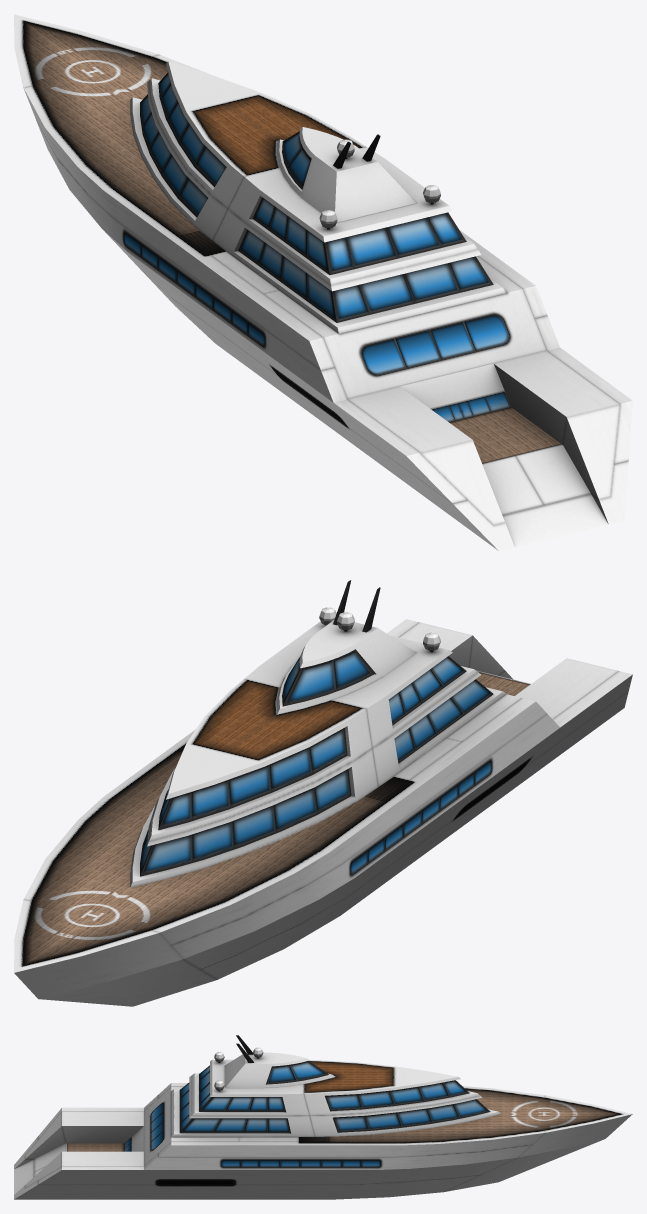
The model's file is yacht.glb.
3 renders of one model, top to bottom at view 1: azimuth 30°, elevation 25°; view 2: azimuth 150°, elevation 25°; view 3: azimuth 270°, elevation 25°, orthographic. The views are drawn at different scales.
Visible parts, largest first — view 1: mesh_superyacht; view 2: mesh_superyacht; view 3: mesh_superyacht.
Part boxes in pixels (bbox=[...]): mesh_superyacht: bbox=[14, 14, 632, 551]; mesh_superyacht: bbox=[14, 580, 632, 1006]; mesh_superyacht: bbox=[14, 1035, 632, 1199].
Size of the model in its own units: 10.8 by 11.5 by 45.23.
1 material, 1 textured.
